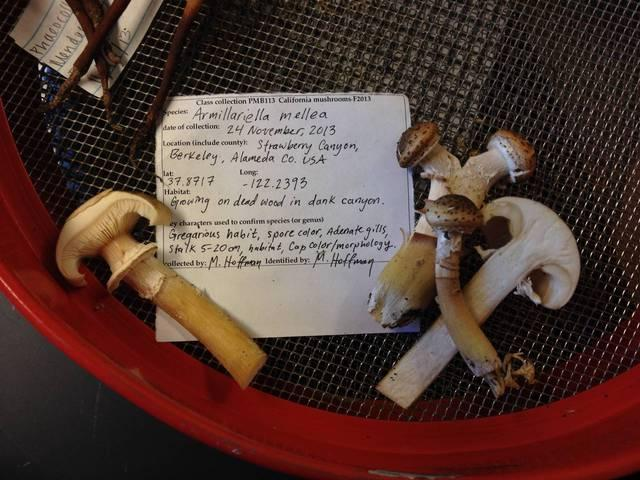Edible Mushroom: (366, 119, 581, 408), (54, 187, 267, 389)
